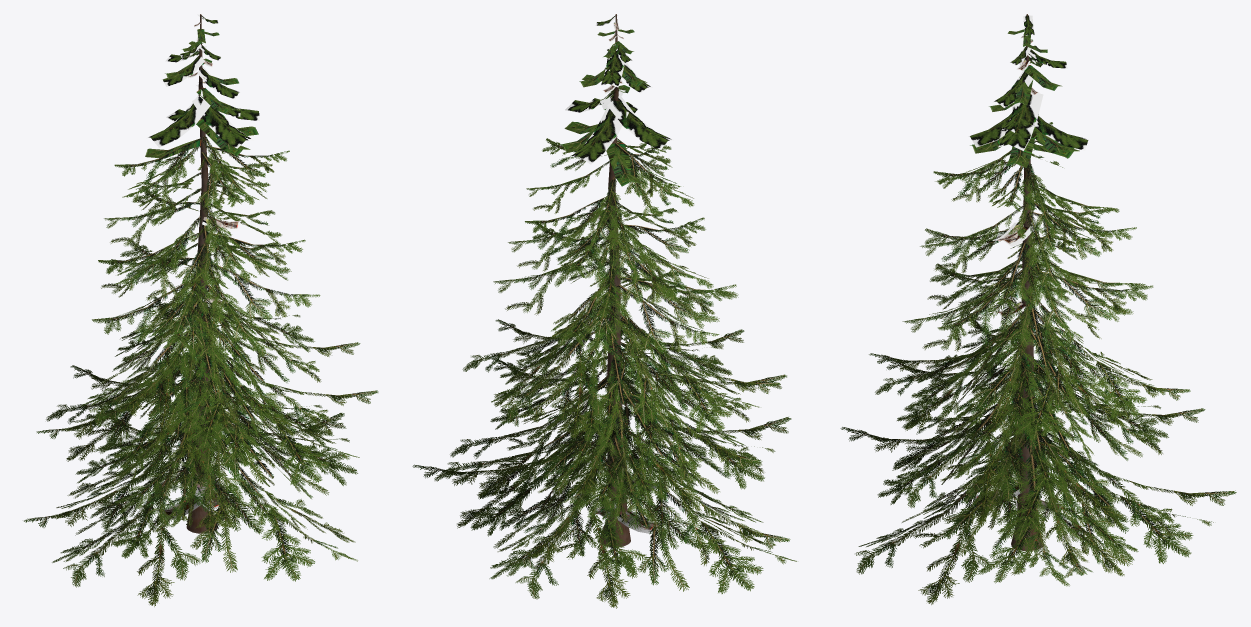
Rendered from Planet_Spruce.fbx.
The picture shows the model from 3 angles, left to right: view 1: azimuth 30°, elevation 25°; view 2: azimuth 150°, elevation 25°; view 3: azimuth 270°, elevation 25°; orthographic projection. The views are drawn at different scales.
Visible parts, largest first — view 1: Planet_Spruce; view 2: Planet_Spruce; view 3: Planet_Spruce.
Part boxes in pixels (<box>): Planet_Spruce: <box>24,14,378,606</box>; Planet_Spruce: <box>412,14,796,608</box>; Planet_Spruce: <box>840,14,1236,604</box>.
Size of the model in its own units: 0.682 by 1 by 0.6616.
